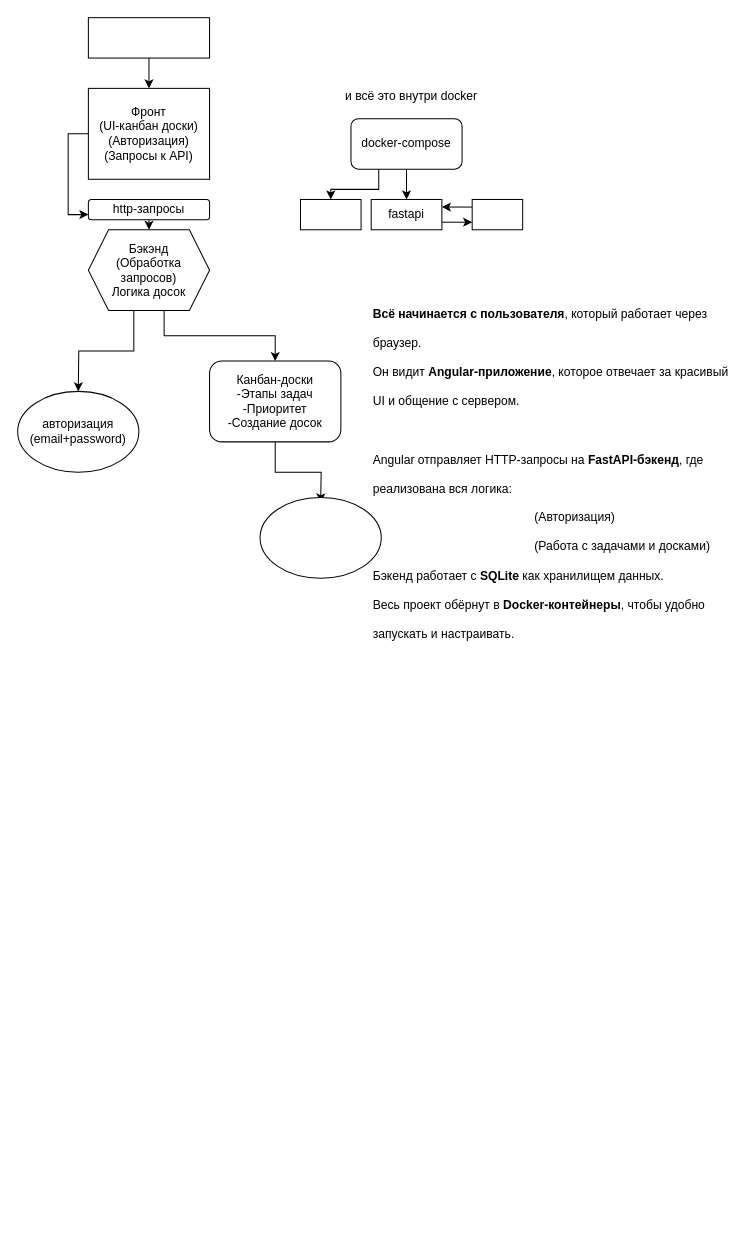
Some shapes in this 752 by 1240 pixel diagram are drawn without their labels. The box of each missing label's shape, as (x1, y1, x2, y2) in pixels:
angular: (299, 198, 361, 230)
sqlite: (471, 198, 523, 230)
БД user, board, tasks: (259, 496, 381, 578)
Пользователь: (87, 17, 210, 58)
